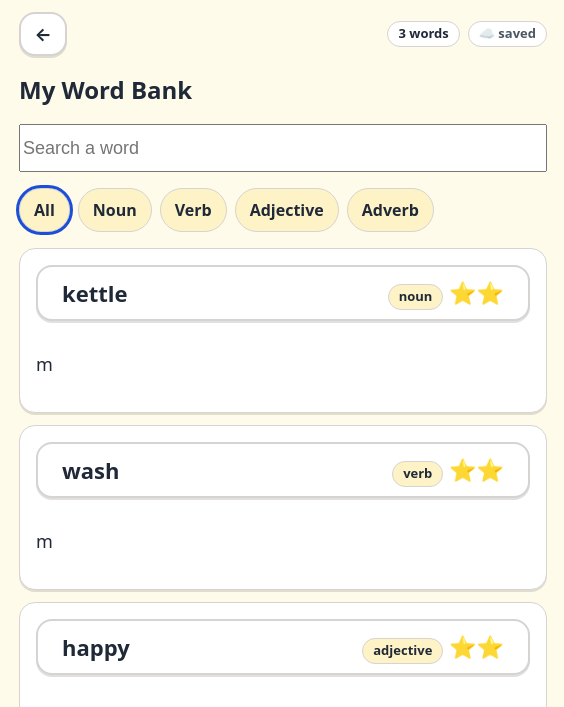
Test: Bank page › filters by word type and by search text
The width and height of the screenshot is (564, 707).
expect the text "kettle" is shown: met, box [62,276,128,310]
expect the text "3 words" is shown: met, box [387,21,460,47]
Click the button "Verb".
click(193, 210)  # box [160,188,227,232]
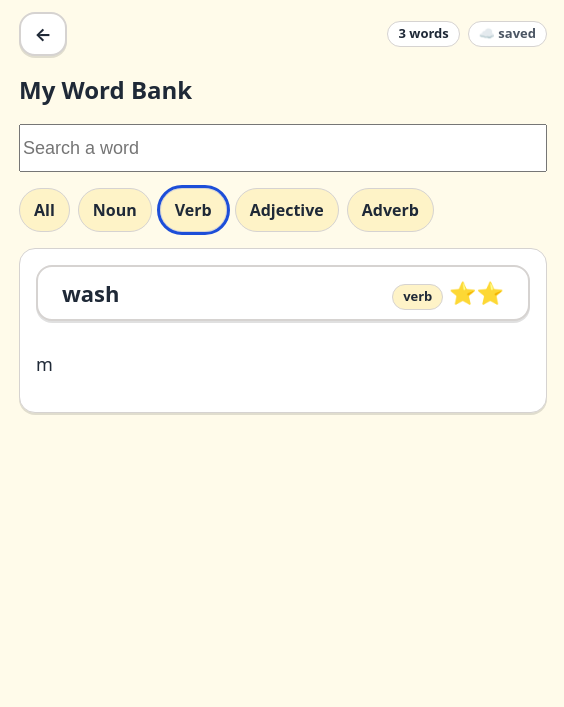
expect the text "wash" is shown: met, box [62,276,120,310]
expect the button "kettle" is gone: met
Click the button "All".
click(44, 210)  # box [19,188,70,232]
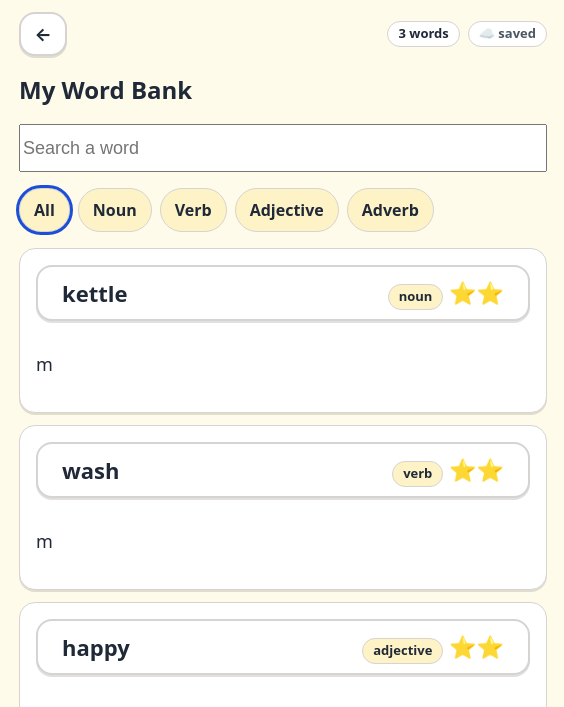
Type "hap" into the search field named "Search words".
click(283, 148); type("hap")  # box [19,124,547,172]
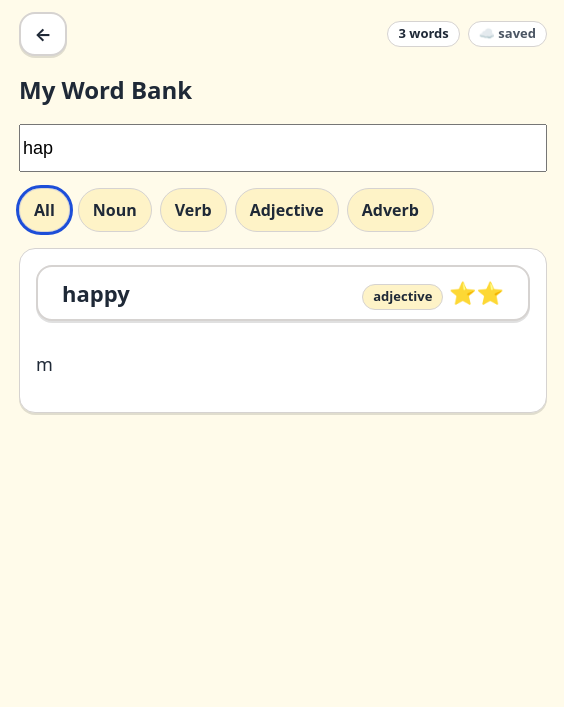
expect the text "happy" is shown: met, box [62,276,130,310]
expect the button "wash" is gone: met
